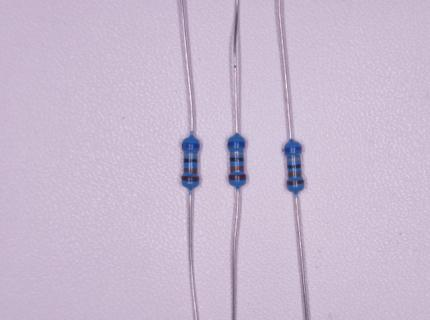Black band: (287, 163, 301, 169), (183, 159, 198, 164), (230, 157, 244, 162)
Blue band: (284, 145, 302, 153), (227, 141, 245, 147), (182, 143, 199, 149)
Brown band: (228, 174, 246, 181), (182, 176, 199, 183), (287, 180, 304, 186)
Grey band: (286, 157, 302, 162), (183, 153, 198, 158), (230, 151, 244, 156)
Orange band: (183, 167, 198, 174), (230, 166, 245, 172), (288, 172, 302, 178)
